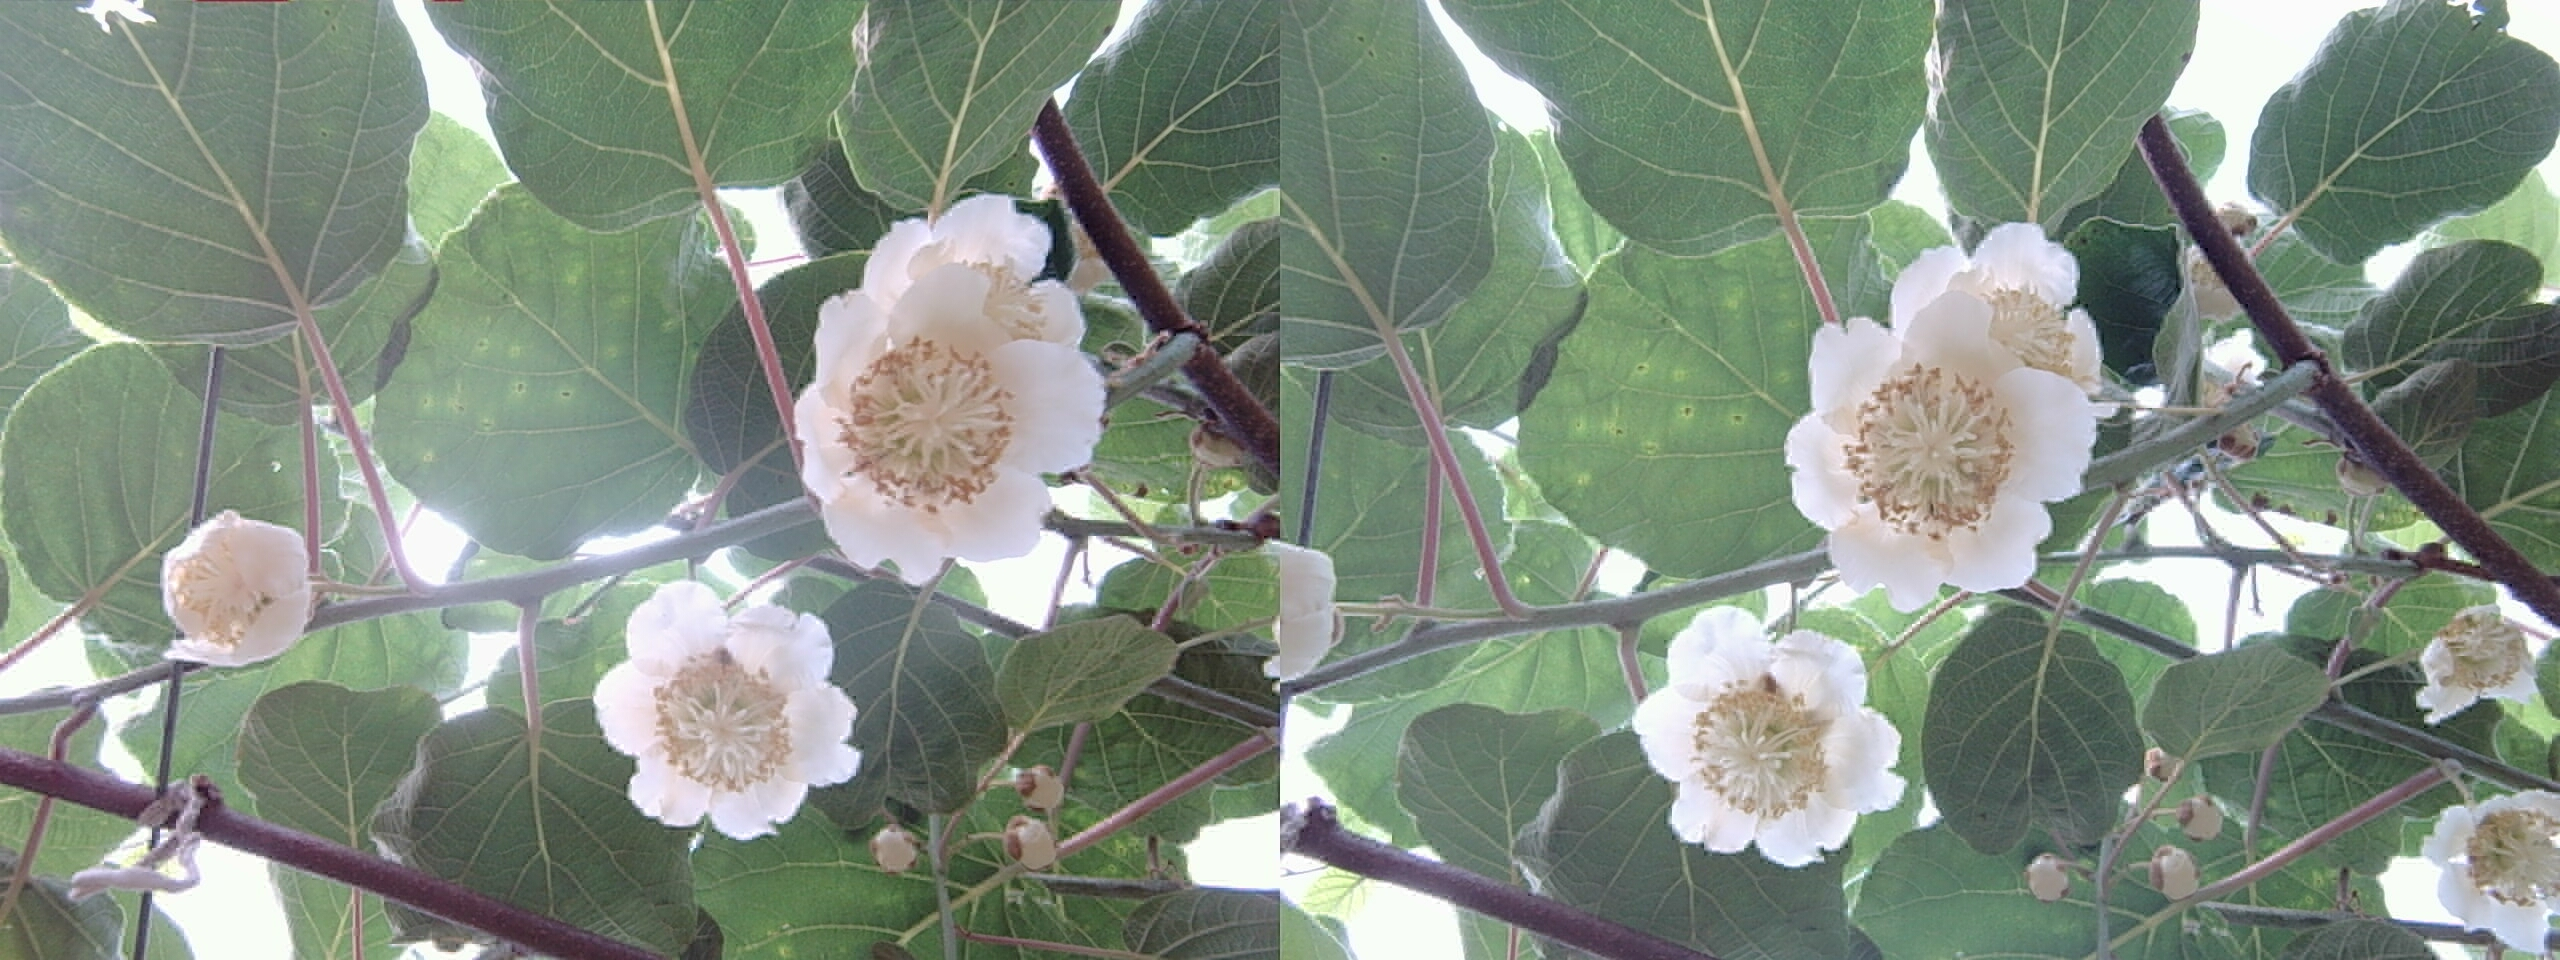flower: (1781, 286, 2087, 599), (795, 237, 1082, 570), (584, 581, 859, 842), (1624, 611, 1904, 865), (1905, 220, 2096, 393), (873, 193, 1069, 353), (163, 504, 310, 658), (2416, 782, 2558, 940)
